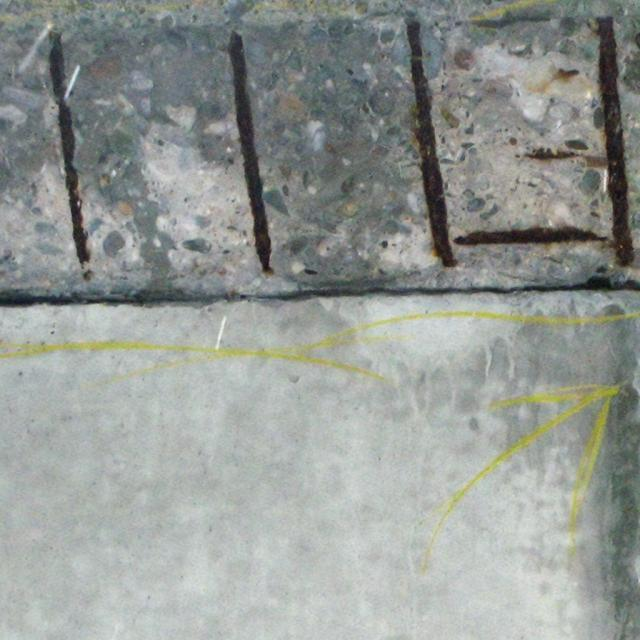D0w0: (2, 2, 639, 345)
